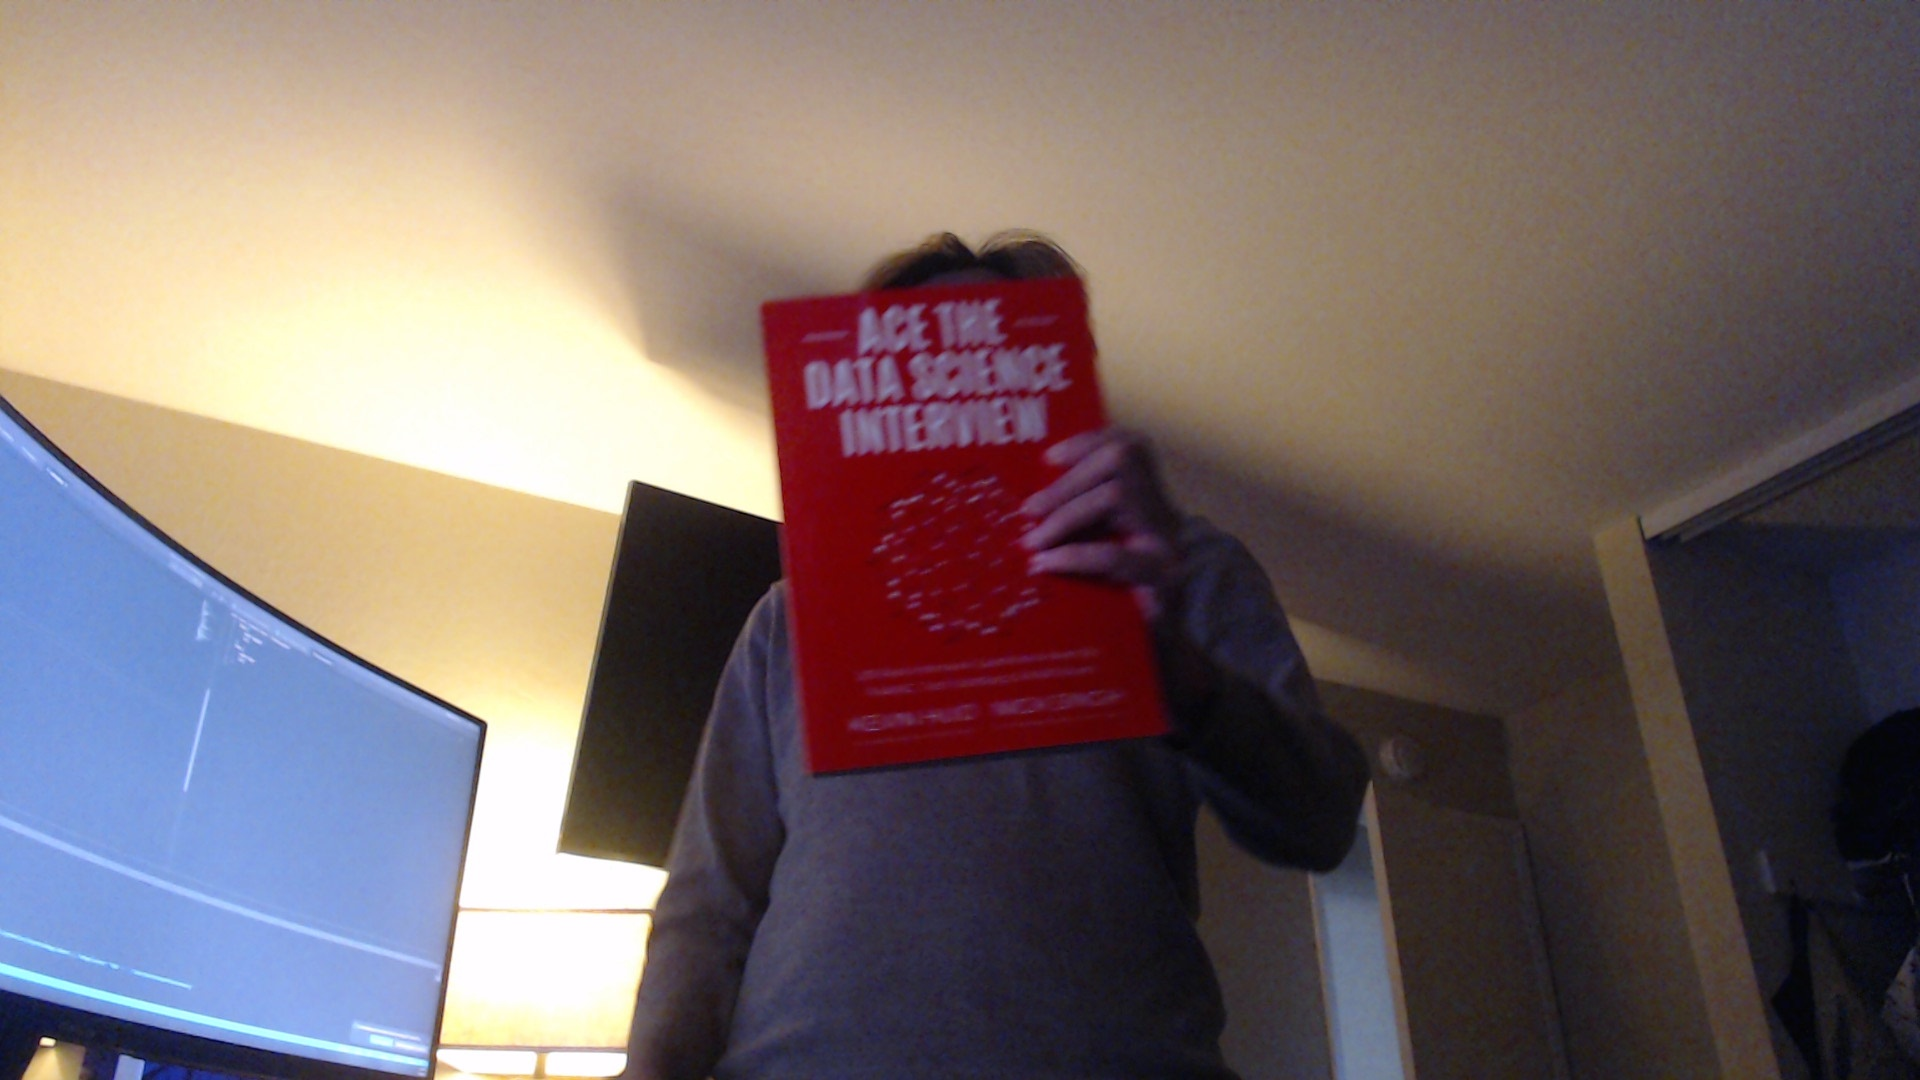book: (760, 278, 1168, 777)
